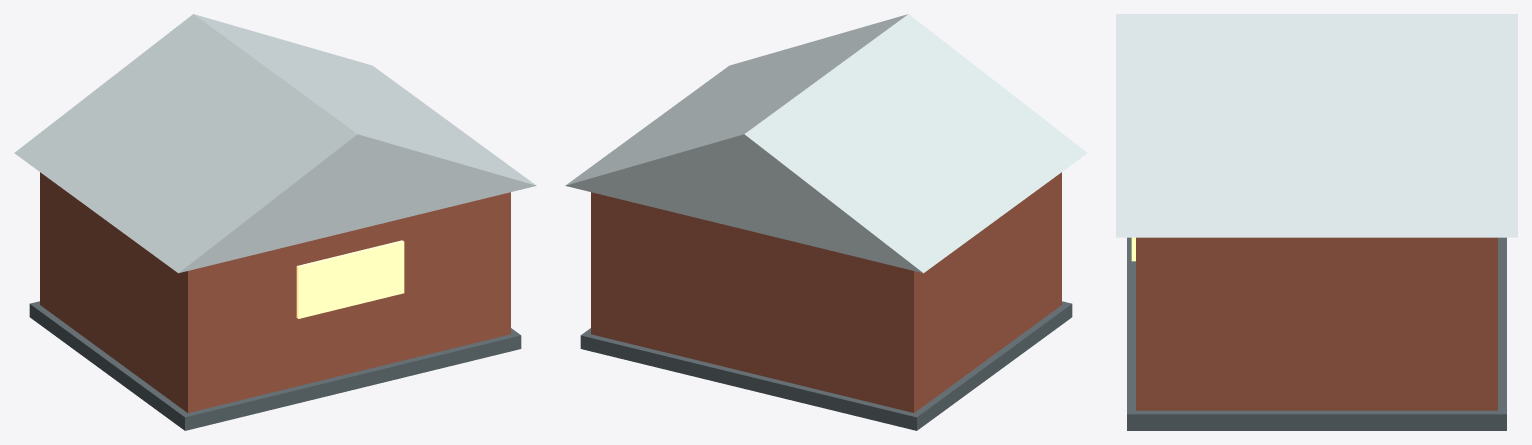
The model's file is ski-patrol-hut.glb.
3 renders of one model, left to right at view 1: azimuth 30°, elevation 25°; view 2: azimuth 150°, elevation 25°; view 3: azimuth 270°, elevation 25°, orthographic. The views are drawn at different scales.
Visible parts, largest first — view 1: ski-patrol-hut; view 2: ski-patrol-hut; view 3: ski-patrol-hut.
Part boxes in pixels (x1,y1,x2,y2): ski-patrol-hut: (14,14,536,430); ski-patrol-hut: (565,14,1087,430); ski-patrol-hut: (1116,14,1517,430).
Size of the model in its own units: 6.1 by 4.21 by 4.84.
